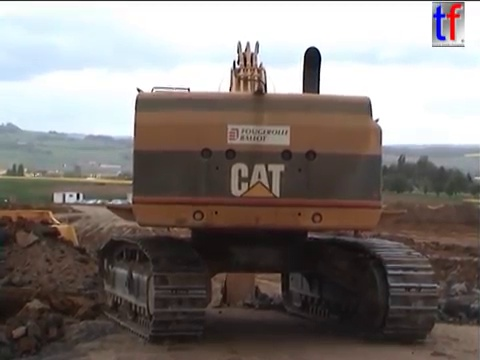excavator: (90, 37, 442, 346)
truck: (1, 206, 120, 360)
